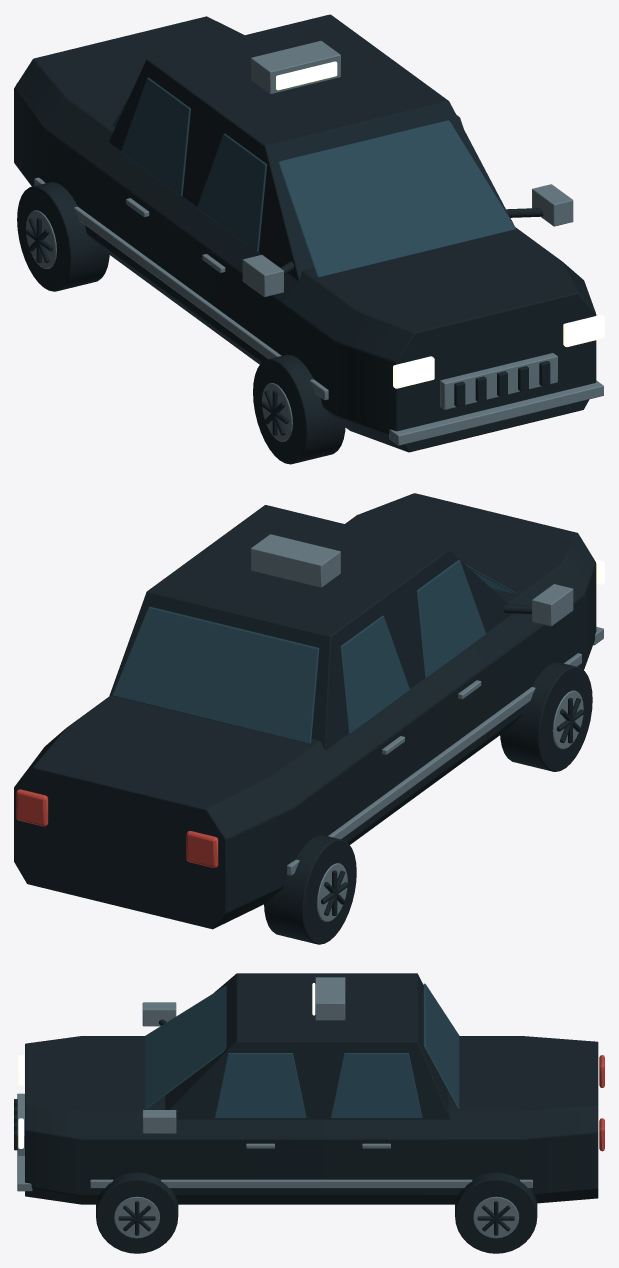
The model's file is black_taxi.glb.
3 renders of one model, top to bottom at view 1: azimuth 30°, elevation 25°; view 2: azimuth 150°, elevation 25°; view 3: azimuth 270°, elevation 25°, orthographic. The views are drawn at different scales.
Visible parts, largest first — view 1: Detail.black_taxi.Dark, Detail.black_taxi.Glass, Detail.black_taxi.Metal, Detail.black_taxi.Light; view 2: Detail.black_taxi.Dark, Detail.black_taxi.Glass, Detail.black_taxi.Metal, Detail.black_taxi.Red; view 3: Detail.black_taxi.Dark, Detail.black_taxi.Glass, Detail.black_taxi.Metal, Detail.black_taxi.Light, Detail.black_taxi.Red.
Part boxes in pixels (x1,y1,x2,y2): Detail.black_taxi.Dark: (14,14,596,464); Detail.black_taxi.Glass: (112,77,515,277); Detail.black_taxi.Metal: (26,40,603,445); Detail.black_taxi.Light: (276,61,604,388); Detail.black_taxi.Dark: (14,493,596,944); Detail.black_taxi.Glass: (112,560,515,743); Detail.black_taxi.Metal: (251,534,603,921); Detail.black_taxi.Red: (16,789,218,867); Detail.black_taxi.Dark: (14,973,598,1253); Detail.black_taxi.Glass: (145,983,459,1118); Detail.black_taxi.Metal: (17,977,532,1238); Detail.black_taxi.Light: (18,983,315,1148); Detail.black_taxi.Red: (599,1055,604,1151).
Bounding box in the file's own units: 2.18 × 1.87 × 4.74.
